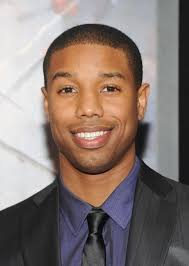bare: (46, 101, 139, 173)
